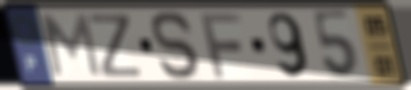5: (308, 8, 362, 82)
9: (266, 11, 310, 80)
F: (197, 11, 245, 81)
M: (38, 12, 104, 80)
S: (150, 10, 204, 83)
Z: (86, 12, 146, 80)
